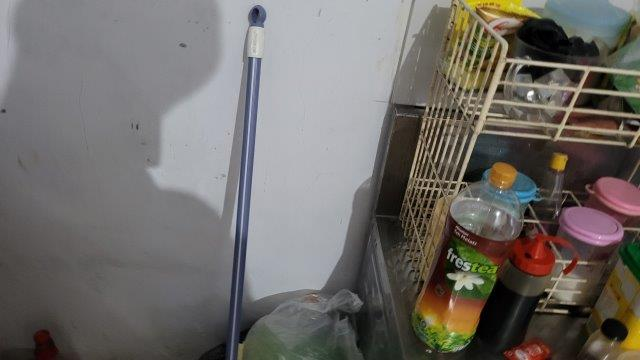botolplastik: (410, 162, 524, 349)
plastik: (242, 288, 364, 360)
